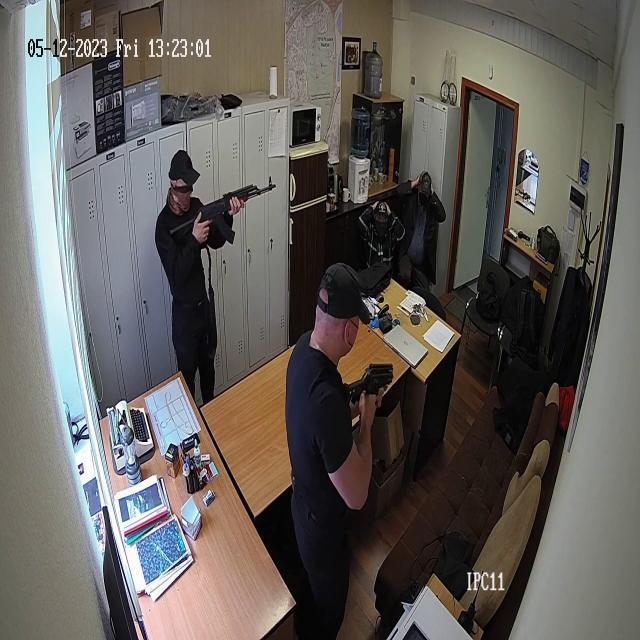pistol: (166, 160, 281, 274), (337, 362, 395, 421)
